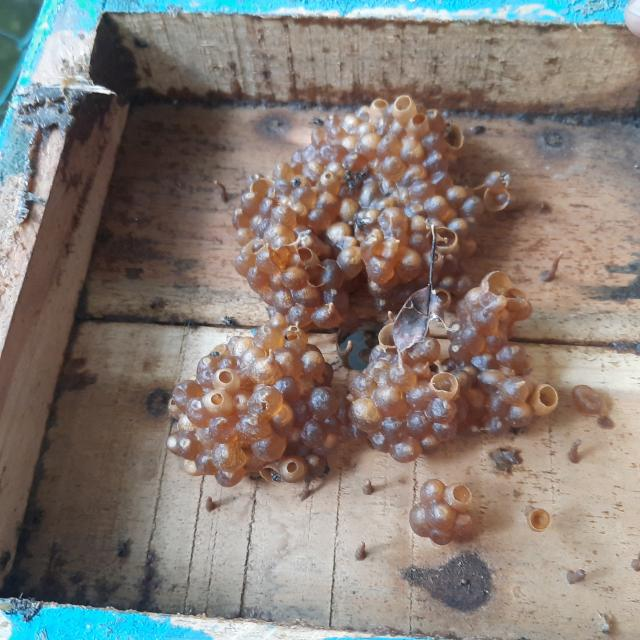honeybee: (344, 179, 358, 198), (356, 168, 367, 182), (270, 471, 282, 482), (344, 169, 354, 178), (312, 118, 324, 125), (294, 178, 302, 187)
